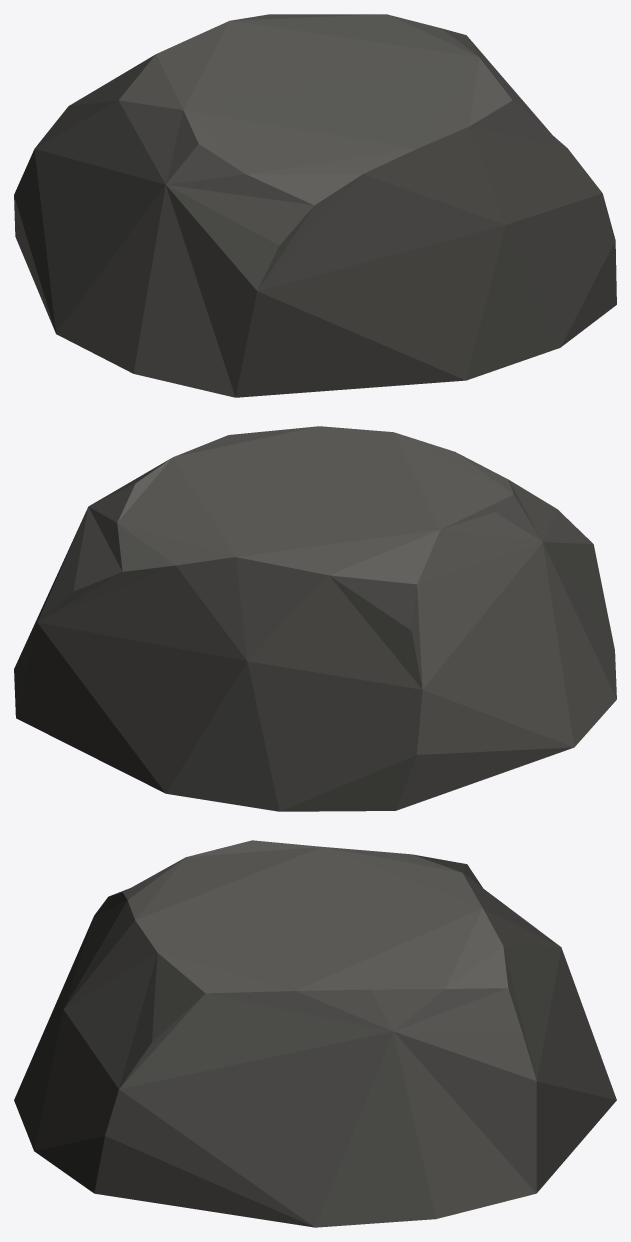
The model's file is SM_Prop_Rock_05.fbx.
3 renders of one model, top to bottom at view 1: azimuth 30°, elevation 25°; view 2: azimuth 150°, elevation 25°; view 3: azimuth 270°, elevation 25°, orthographic.
Visible parts, largest first — view 1: SM_Prop_Rock_05; view 2: SM_Prop_Rock_05; view 3: SM_Prop_Rock_05.
Part boxes in pixels (x1,y1,x2,y2): SM_Prop_Rock_05: (14,14,616,397); SM_Prop_Rock_05: (14,426,616,811); SM_Prop_Rock_05: (14,840,616,1227).
Size of the model in its own units: 48.69 by 16.97 by 48.69.
